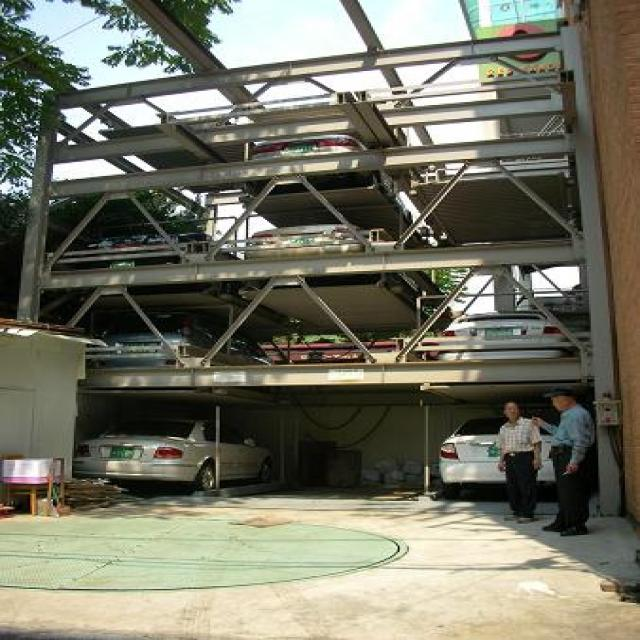Car: (68, 407, 281, 493), (218, 214, 426, 275), (242, 124, 390, 205), (443, 414, 574, 503), (62, 319, 240, 380), (425, 314, 591, 367)
